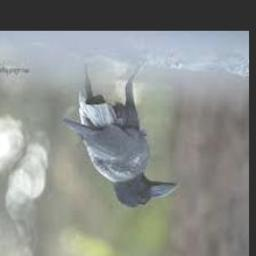Crow: (62, 61, 179, 208)
